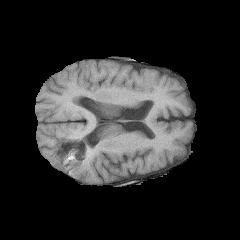glioma: (49, 134, 91, 178)
